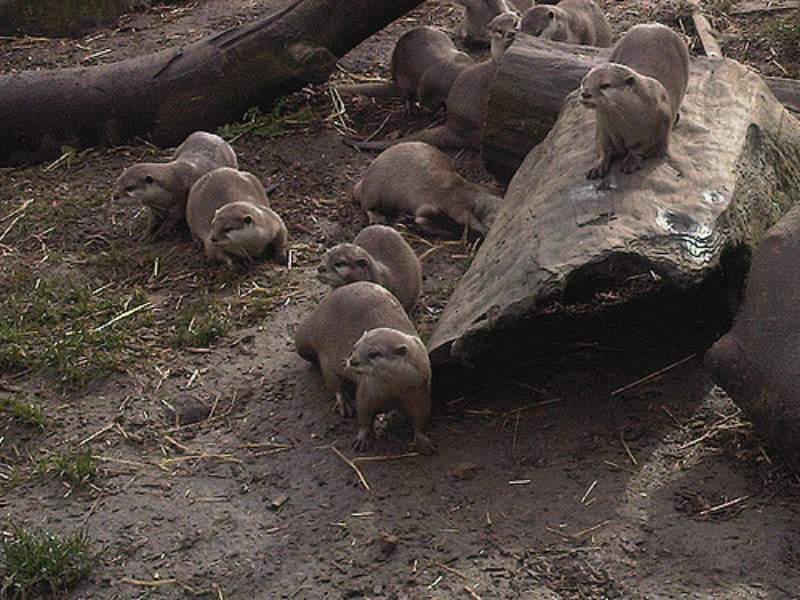minkish: (293, 283, 445, 464), (579, 23, 694, 180), (345, 141, 505, 239), (112, 127, 240, 244), (189, 166, 293, 279), (315, 224, 427, 316), (386, 25, 487, 108), (522, 4, 615, 55), (480, 10, 528, 63)
